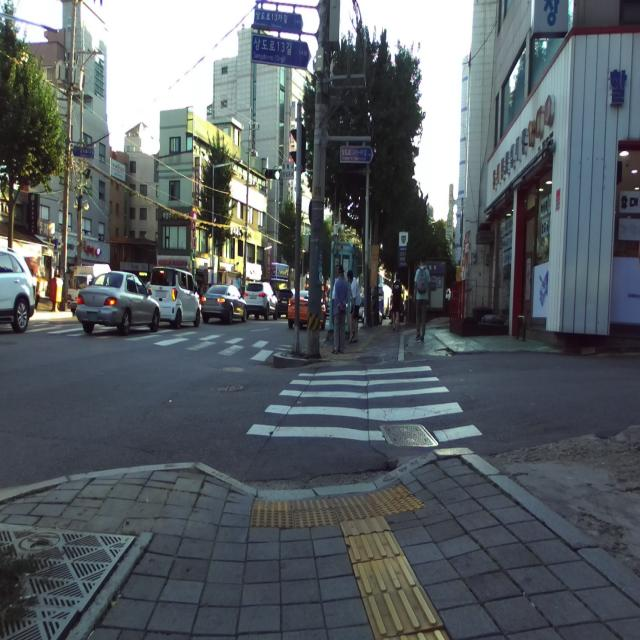횡단보도: (246, 366, 482, 441)
